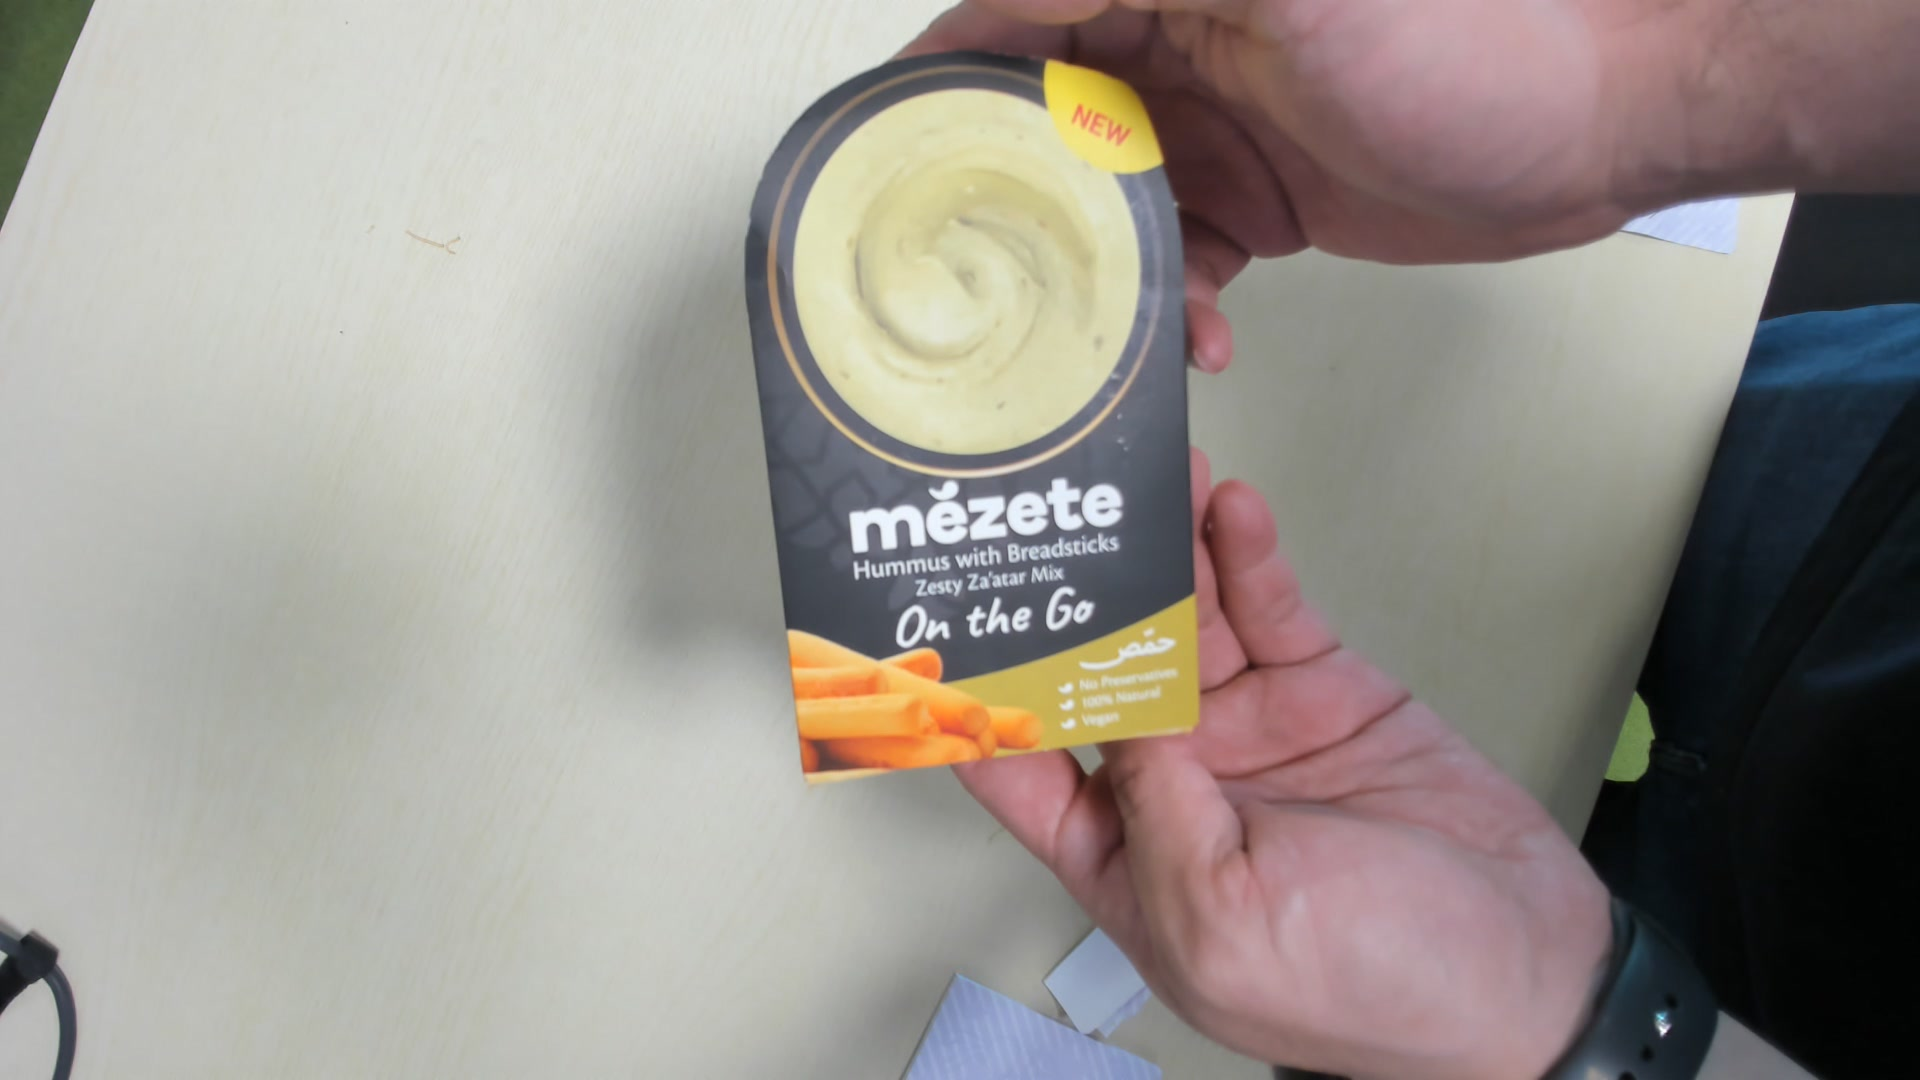InstantMeals_0-99g_NonHalal_NonHealthy: (742, 45, 1203, 786)
